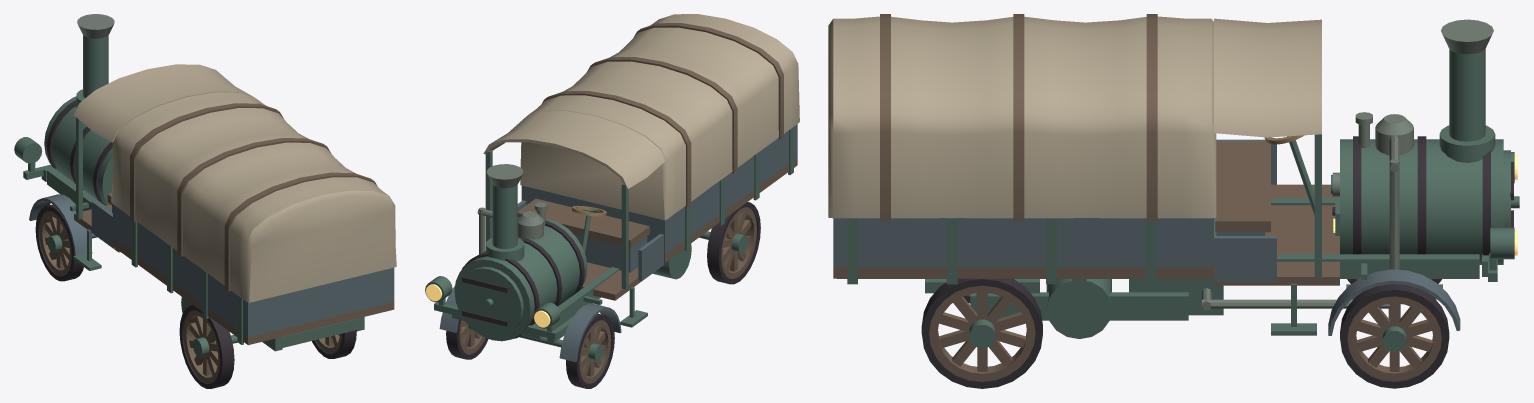
The model's file is prop_steam_truck_v1.glb.
3 views of the same model, side by side, from view 1: azimuth 30°, elevation 25°; view 2: azimuth 150°, elevation 25°; view 3: azimuth 270°, elevation 25° (orthographic). The views are drawn at different scales.
Visible parts, largest first — view 1: SteamTruck; view 2: SteamTruck; view 3: SteamTruck.
Boxes of the visible parts, x1=… form: SteamTruck: x1=14, y1=14, x2=396, y2=388; SteamTruck: x1=425, y1=14, x2=799, y2=388; SteamTruck: x1=828, y1=14, x2=1519, y2=388.
Size of what is drawn, in the model's own units: 2.04 by 2.84 by 5.7.
